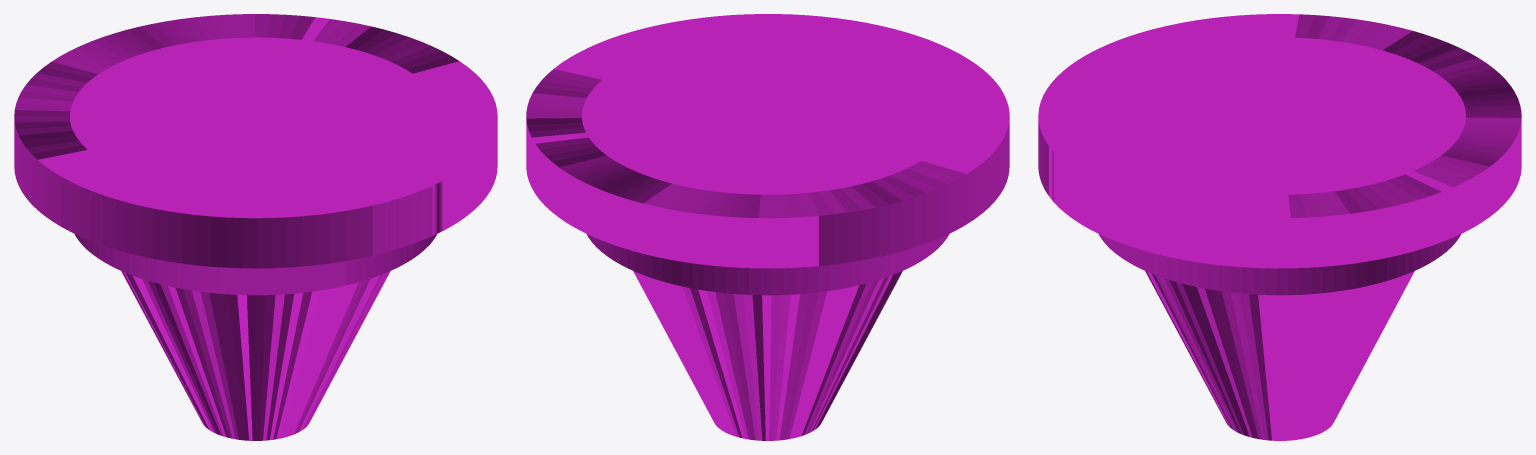
File: Planung 1.fbx
3 renders of one model, left to right at view 1: azimuth 30°, elevation 25°; view 2: azimuth 150°, elevation 25°; view 3: azimuth 270°, elevation 25°, orthographic.
Visible parts, largest first — view 1: Planung_1; view 2: Planung_1; view 3: Planung_1.
Boxes of the visible parts, x1,y1,x2,y2 form: Planung_1: [14, 14, 497, 440]; Planung_1: [526, 14, 1009, 440]; Planung_1: [1038, 14, 1521, 440].
Bounding box in the file's own units: 1743 × 1200 × 1742.
